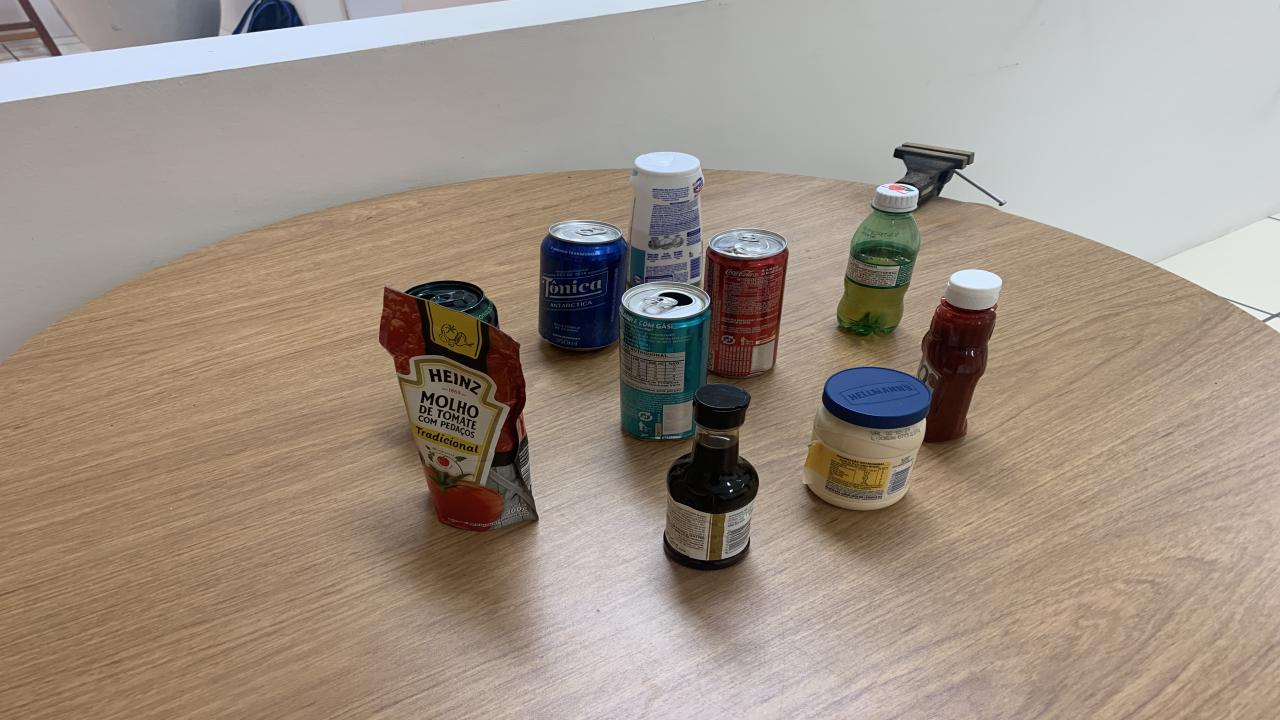Cleaner-Cleanup_Items: (628, 152, 705, 287)
Coke-Drinks: (705, 229, 788, 377)
English_Sauce-Pantry_Items: (665, 384, 758, 570)
Guarana-Drinks: (838, 184, 920, 336)
Guarana_Can-Drinks: (405, 281, 498, 328)
Ketchup-Pantry_Items: (918, 270, 1002, 442)
Mayonnaise-Pantry_Items: (802, 368, 932, 510)
Tea-Drinks: (620, 281, 710, 439)
Tomato_Sauce-Pantry_Items: (380, 287, 538, 531)
Tonic-Drinks: (538, 219, 628, 351)
